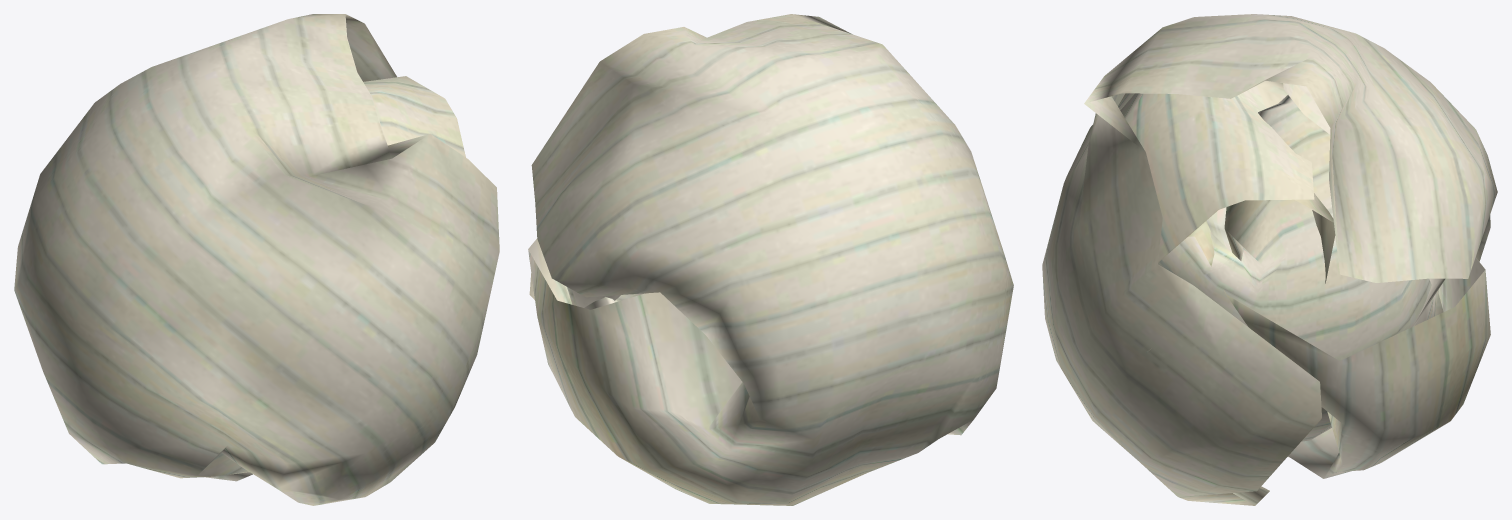
Rendered from Paperballl.fbx.
3 views of the same model, side by side, from view 1: azimuth 30°, elevation 25°; view 2: azimuth 150°, elevation 25°; view 3: azimuth 270°, elevation 25° (orthographic).
Visible parts, largest first — view 1: Ball.001; view 2: Ball.001; view 3: Ball.001.
Part boxes in pixels (<box>): Ball.001: <box>14,14,499,505</box>; Ball.001: <box>528,14,1013,505</box>; Ball.001: <box>1042,14,1497,505</box>.
Bounding box in the file's own units: 67.57 × 68.04 × 62.75.
